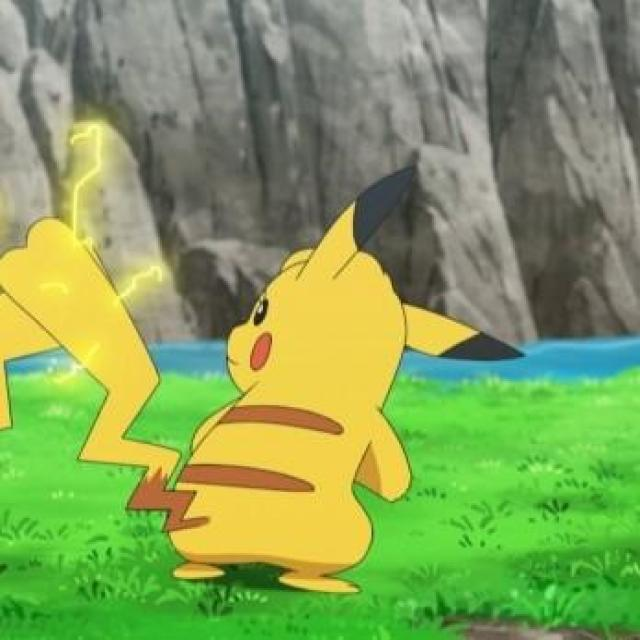pikachu: (3, 164, 531, 596)
